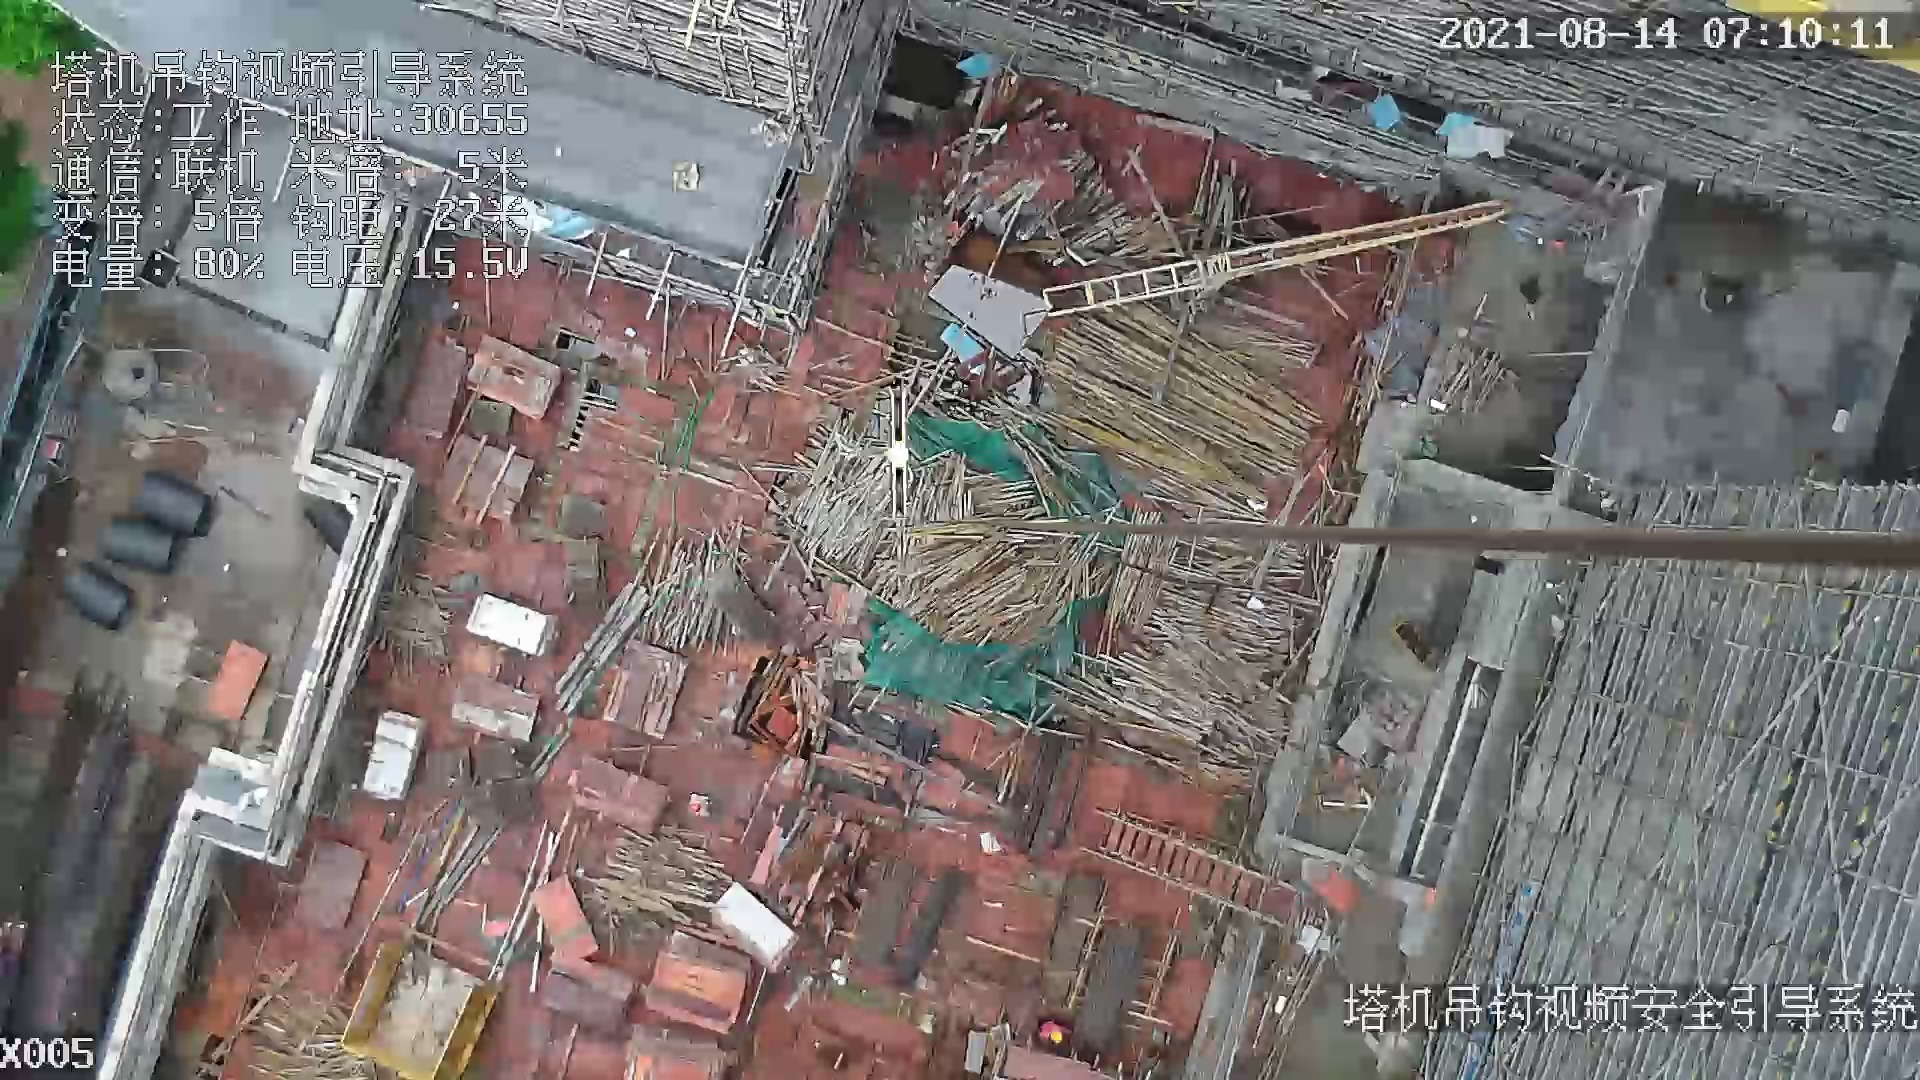helmet: (691, 803, 701, 813)
hook: (877, 385, 918, 527)
person: (686, 791, 714, 818)
